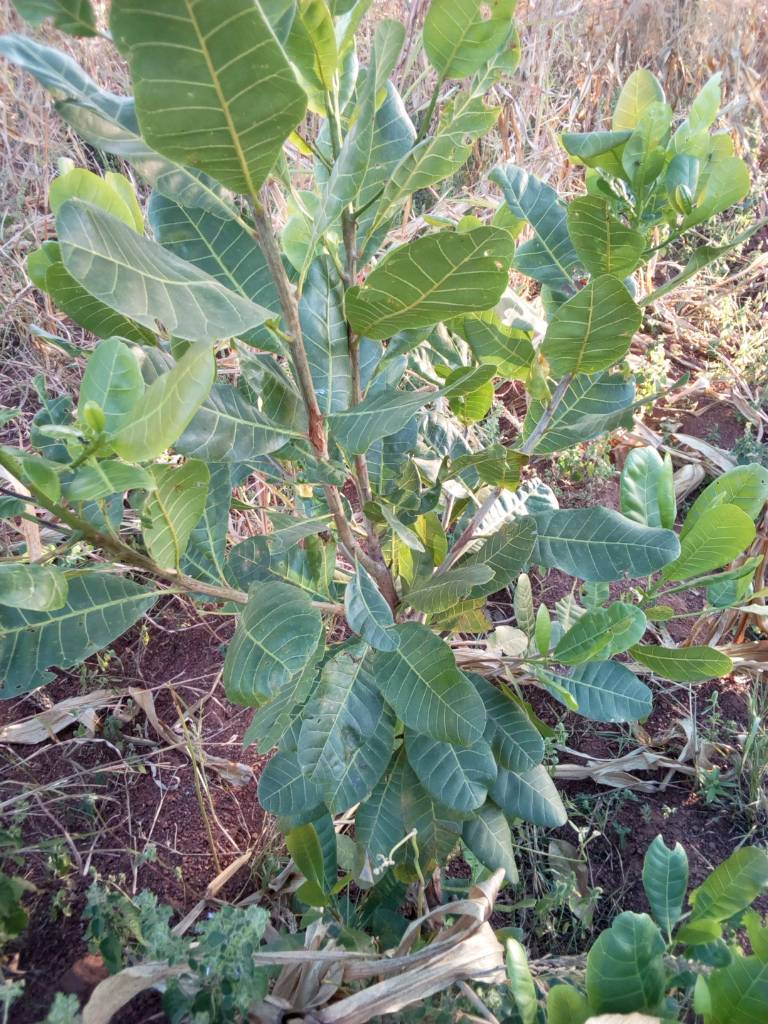Helopeltis anacardii: (560, 124, 657, 183)
